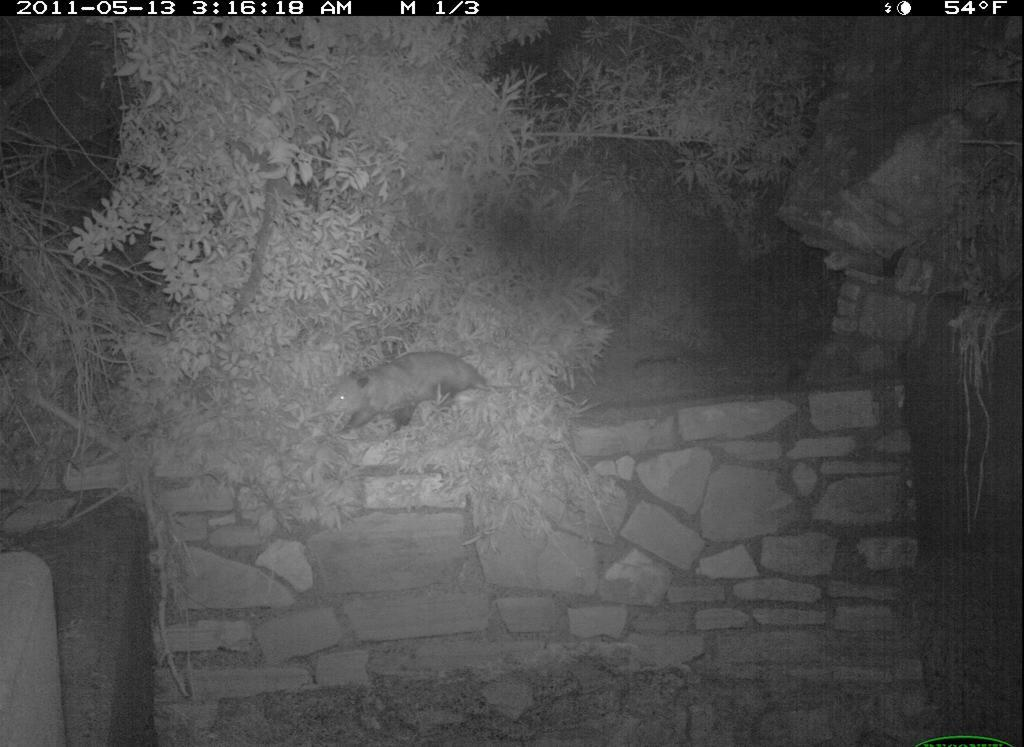opossum: (306, 340, 560, 465)
